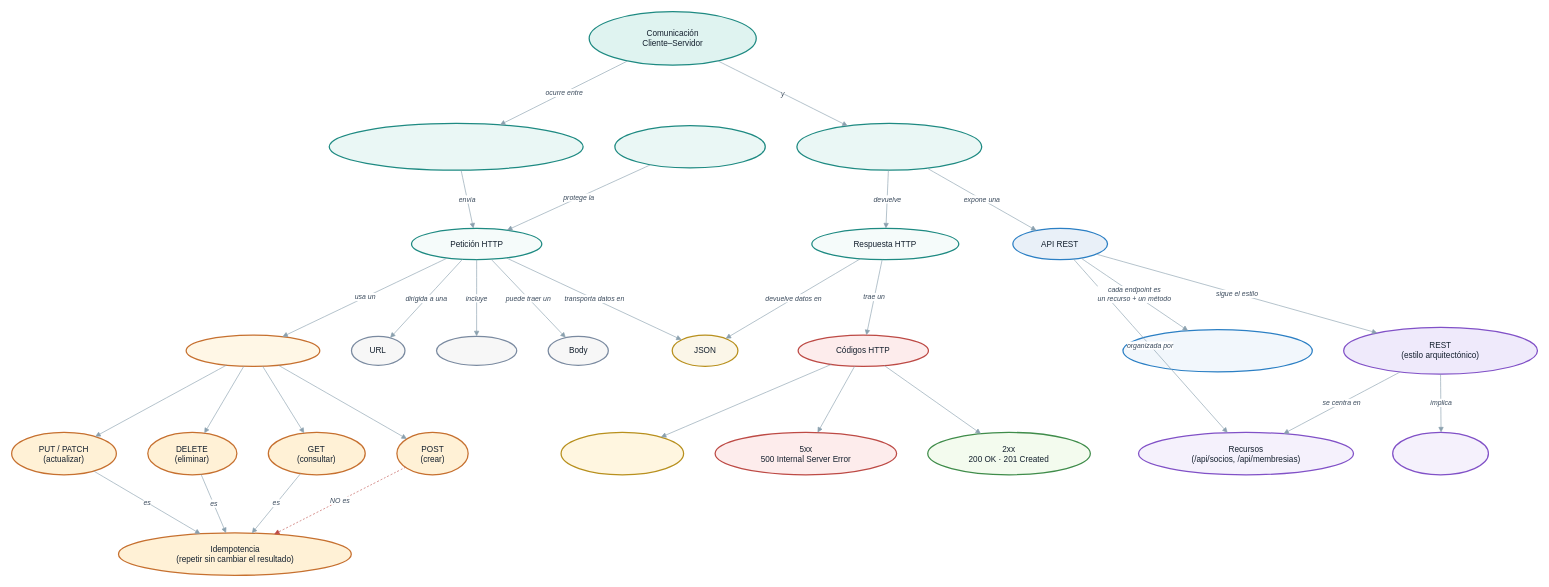
The diagram is 1549 pixels wide and 587 high, and some of its shapes have lost their labels. Here are the shapes that lost their labels. From the top down, the centre of each, then its label:
At (x=455, y=146): "Cliente HTTP (Postman / IntelliJ HTTP Client)".
At (x=690, y=146): "HTTPS (HTTP + seguridad)".
At (x=889, y=146): "Servidor (API REST de FitClub)".
At (x=252, y=350): "Métodos HTTP".
At (x=476, y=350): "Headers".
At (x=1217, y=350): "Endpoint (un recurso + un método)".
At (x=622, y=453): "4xx 400 · 404 · 409".
At (x=1440, y=453): "Sin estado (stateless)".
